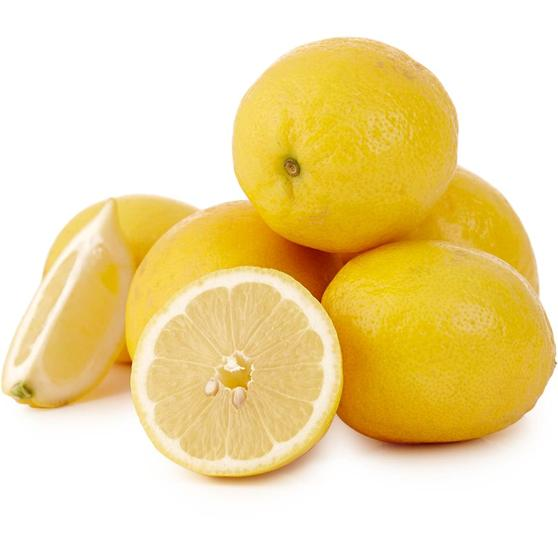lemon: (232, 29, 463, 250), (315, 244, 558, 448)
